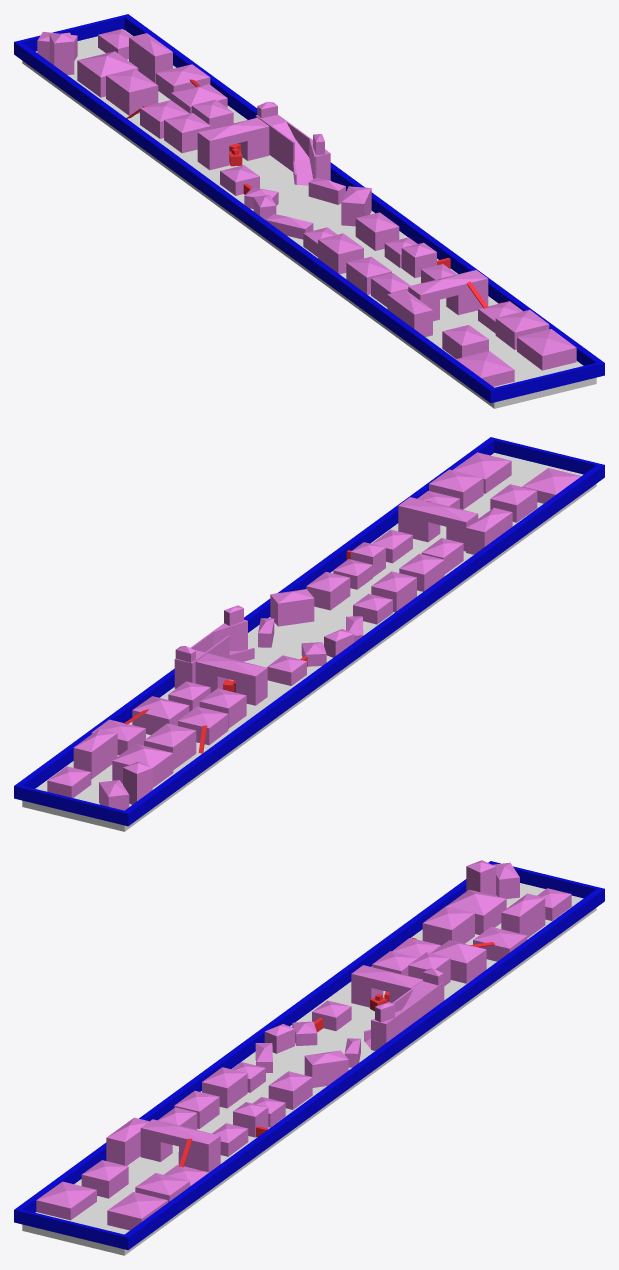
File: bridge.glb
3 renders of one model, top to bottom at view 1: azimuth 30°, elevation 25°; view 2: azimuth 150°, elevation 25°; view 3: azimuth 330°, elevation 25°, orthographic.
Parts seen in each view (by area): view 1: walls, ground, building.021, building.008, building.002, building.029, building.001, building.033, building.034, building.005, building.017, building.025 (+18 smaller); view 2: walls, ground, building.002, building.008, building.021, building.034, building.033, building.010, building.029, building.028, building.005, building.004 (+21 smaller); view 3: walls, ground, building.002, building.021, building.008, building.029, building, building.028, building.034, building.033, building.001, building.005 (+20 smaller).
Part boxes in pixels (bbox=[...]): walls: bbox=[14, 14, 604, 403]; ground: bbox=[22, 30, 596, 408]; building.021: bbox=[255, 115, 330, 185]; building.008: bbox=[197, 117, 269, 170]; building.002: bbox=[408, 270, 488, 321]; building.029: bbox=[106, 68, 158, 115]; building.001: bbox=[517, 329, 576, 370]; building.033: bbox=[77, 51, 138, 97]; building.034: bbox=[129, 33, 172, 83]; building.005: bbox=[387, 290, 432, 336]; building.017: bbox=[318, 233, 363, 274]; building.025: bbox=[164, 113, 210, 153]; walls: bbox=[14, 437, 604, 826]; ground: bbox=[22, 453, 596, 831]; building.002: bbox=[398, 497, 478, 551]; building.008: bbox=[195, 653, 267, 705]; building.021: bbox=[174, 620, 254, 688]; building.034: bbox=[73, 729, 117, 779]; building.033: bbox=[112, 744, 173, 787]; building.010: bbox=[270, 589, 314, 626]; building.029: bbox=[144, 723, 196, 769]; building.028: bbox=[132, 696, 189, 734]; building.005: bbox=[466, 507, 512, 554]; building.004: bbox=[429, 469, 483, 509]; walls: bbox=[14, 861, 604, 1249]; ground: bbox=[22, 883, 596, 1255]; building.002: bbox=[140, 1119, 220, 1172]; building.021: bbox=[364, 980, 444, 1050]; building.008: bbox=[351, 965, 422, 1007]; building.029: bbox=[422, 906, 474, 945]; building: bbox=[36, 1181, 96, 1220]; building.028: bbox=[431, 940, 486, 983]; building.034: bbox=[501, 893, 545, 937]; building.033: bbox=[446, 889, 506, 934]; building.001: bbox=[107, 1192, 167, 1230]; building.005: bbox=[106, 1117, 149, 1165].
Bounding box in the file's own units: 27.96 × 12.41 × 202.
